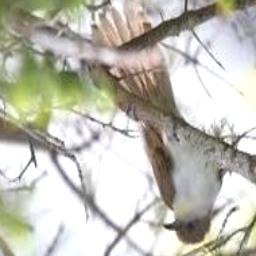Cuckoo: (90, 4, 224, 246)
